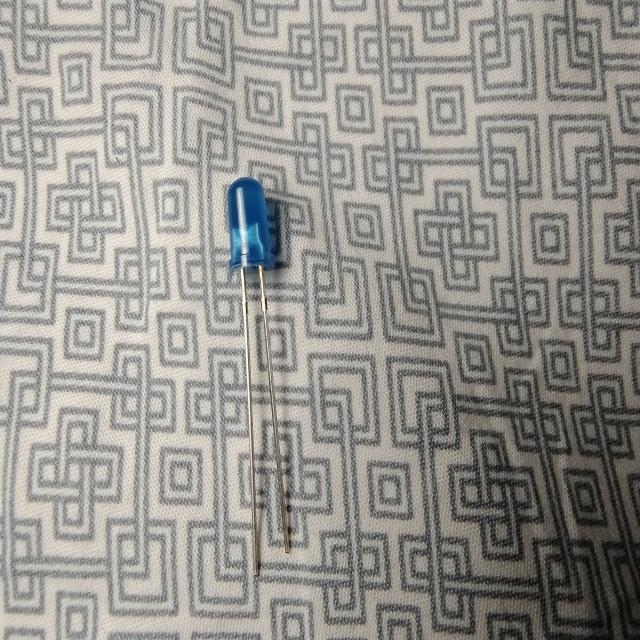blue_led: (226, 175, 276, 272)
